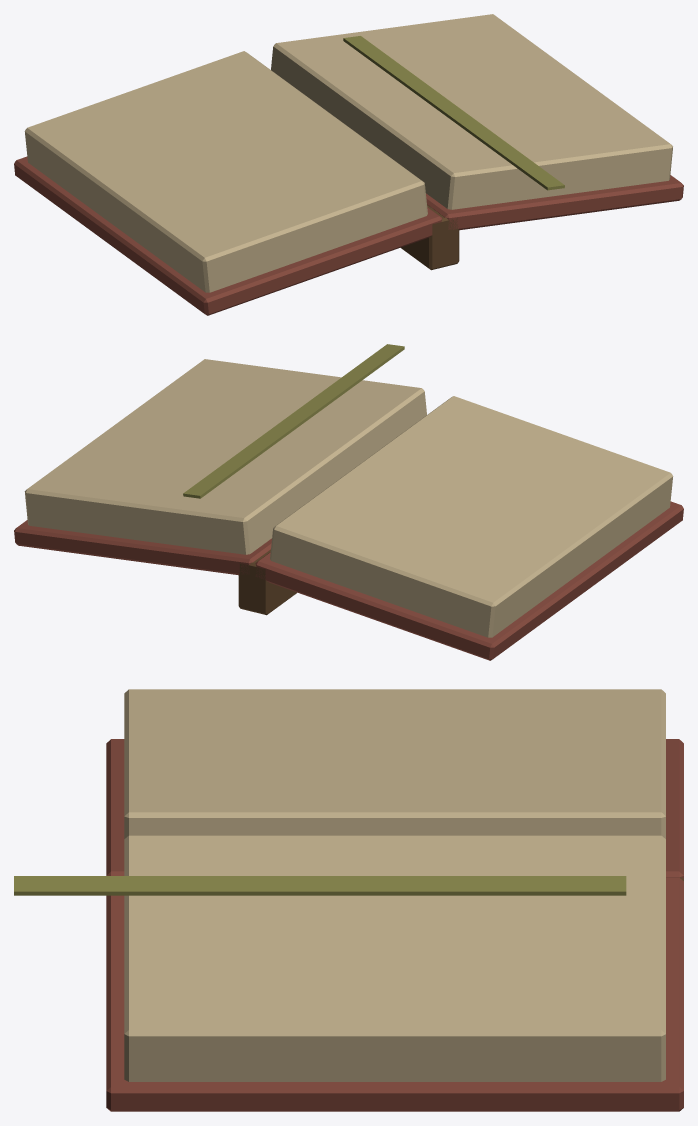
Rendered from Library_OpenBook.fbx.
3 renders of one model, top to bottom at view 1: azimuth 30°, elevation 25°; view 2: azimuth 150°, elevation 25°; view 3: azimuth 270°, elevation 25°, orthographic. The views are drawn at different scales.
Parts seen in each view (by area): view 1: Page_block, Page_block.001, Cover, Cover.001, Ribbon_bookmark, Binding; view 2: Page_block, Page_block.001, Cover, Cover.001, Ribbon_bookmark, Binding; view 3: Page_block.001, Page_block, Cover.001, Ribbon_bookmark, Cover.
Boxes of the visible parts, bbox=[...] form: Page_block: bbox=[24, 51, 427, 292]; Page_block.001: bbox=[271, 14, 672, 209]; Cover: bbox=[14, 156, 442, 315]; Cover.001: bbox=[426, 175, 683, 230]; Ribbon_bookmark: bbox=[343, 36, 564, 190]; Binding: bbox=[400, 204, 459, 270]; Page_block: bbox=[270, 396, 673, 637]; Page_block.001: bbox=[24, 359, 426, 554]; Cover: bbox=[255, 501, 683, 660]; Cover.001: bbox=[14, 520, 271, 575]; Ribbon_bookmark: bbox=[183, 344, 404, 498]; Binding: bbox=[238, 549, 296, 615]; Page_block.001: bbox=[124, 835, 665, 1081]; Page_block: bbox=[124, 689, 665, 838]; Cover.001: bbox=[106, 877, 683, 1111]; Ribbon_bookmark: bbox=[14, 876, 626, 895]; Cover: bbox=[106, 739, 683, 878].
Bounding box in the file's own units: 0.7198 × 0.1223 × 0.58.
